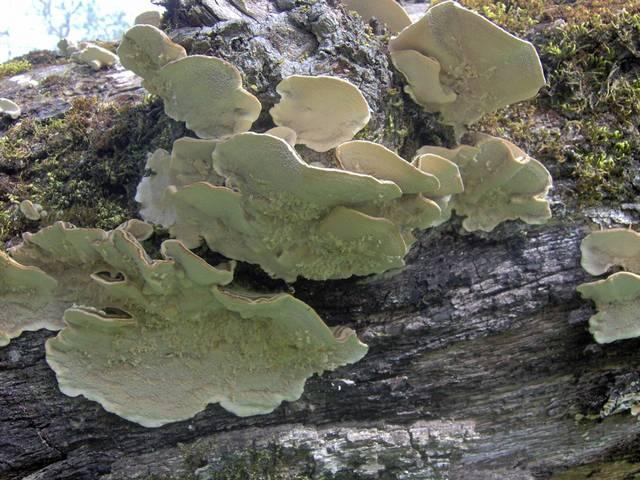Non-edible Mushroom: (3, 23, 559, 432), (386, 0, 548, 142), (268, 73, 372, 153), (575, 222, 640, 335)
